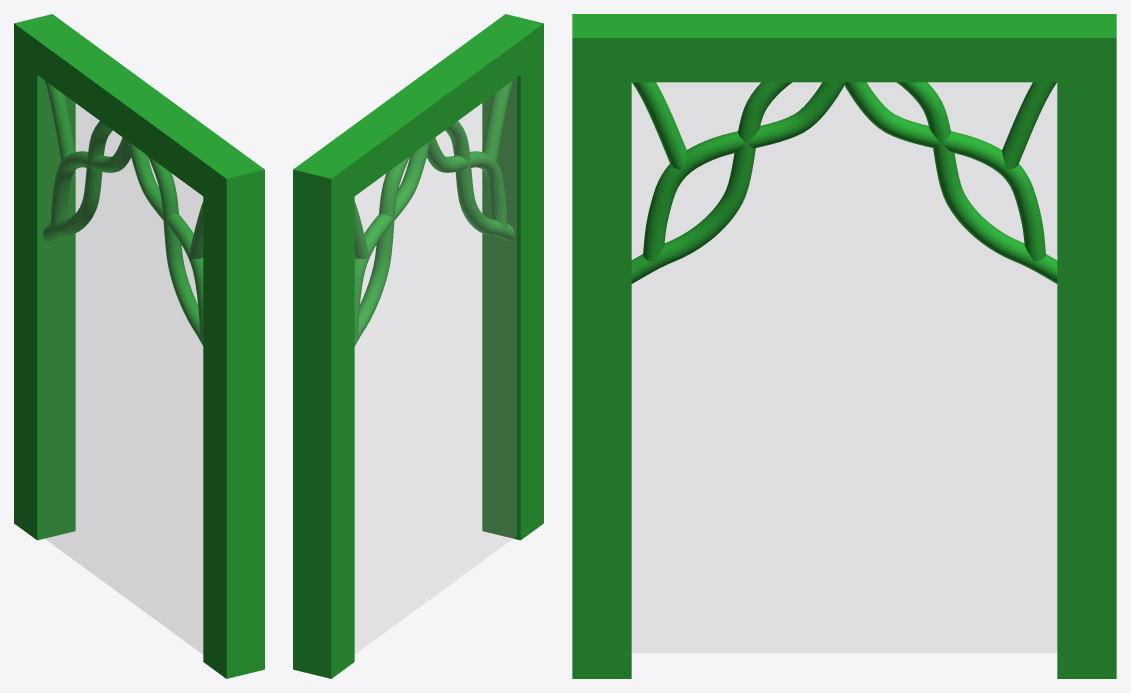
File: Mirror_Arch(Post-Join1).fbx
The picture shows the model from 3 angles, left to right: view 1: azimuth 30°, elevation 25°; view 2: azimuth 150°, elevation 25°; view 3: azimuth 270°, elevation 25°; orthographic projection. The views are drawn at different scales.
Visible parts, largest first — view 1: Mirror_Frame, Glass; view 2: Mirror_Frame, Glass; view 3: Glass, Mirror_Frame.
Boxes of the visible parts, x1,y1,x2,y2 form: Mirror_Frame: (14,14,264,678); Glass: (41,78,202,653); Mirror_Frame: (293,14,543,678); Glass: (355,78,516,653); Glass: (632,82,1056,652); Mirror_Frame: (572,14,1116,678).
Size of the model in its own units: 71.35 by 888 by 684.
